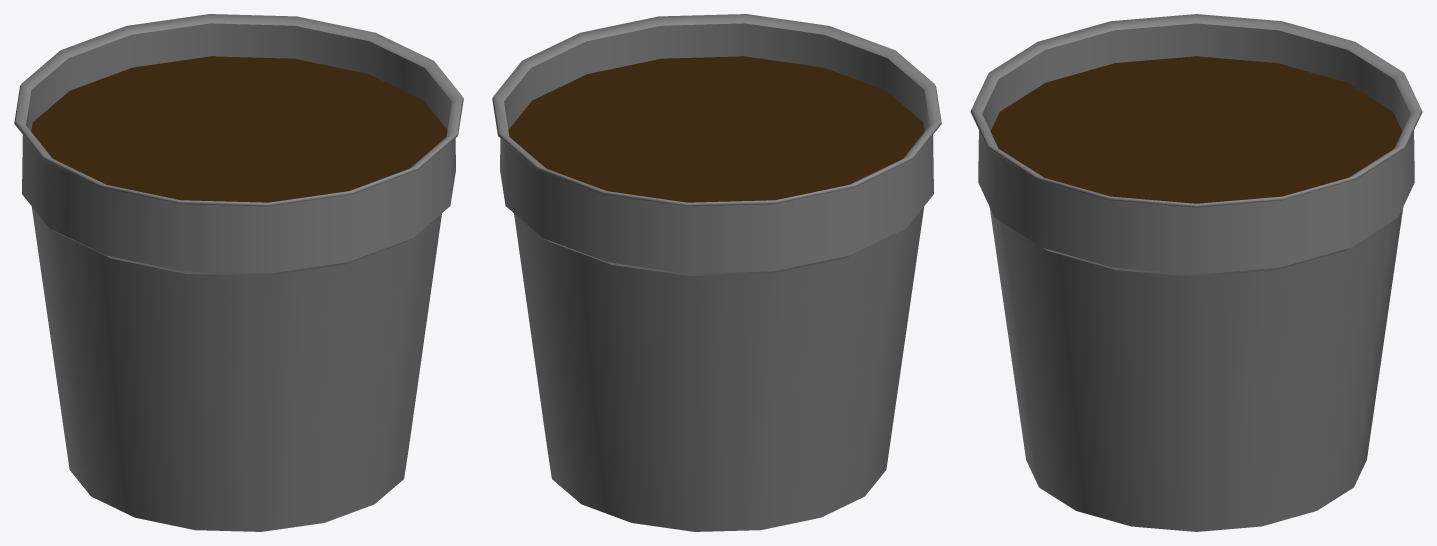
The model's file is flowerPot_1.fbx.
3 views of the same model, side by side, from view 1: azimuth 30°, elevation 25°; view 2: azimuth 150°, elevation 25°; view 3: azimuth 270°, elevation 25° (orthographic).
Visible parts, largest first — view 1: Pot; view 2: Pot; view 3: Pot.
Boxes of the visible parts, left/top/right/bottom form: Pot: left=14, top=14, right=463, bottom=531; Pot: left=492, top=14, right=941, bottom=531; Pot: left=970, top=14, right=1422, bottom=531.
Size of the model in its own units: 12.5 by 10.7 by 12.5.
